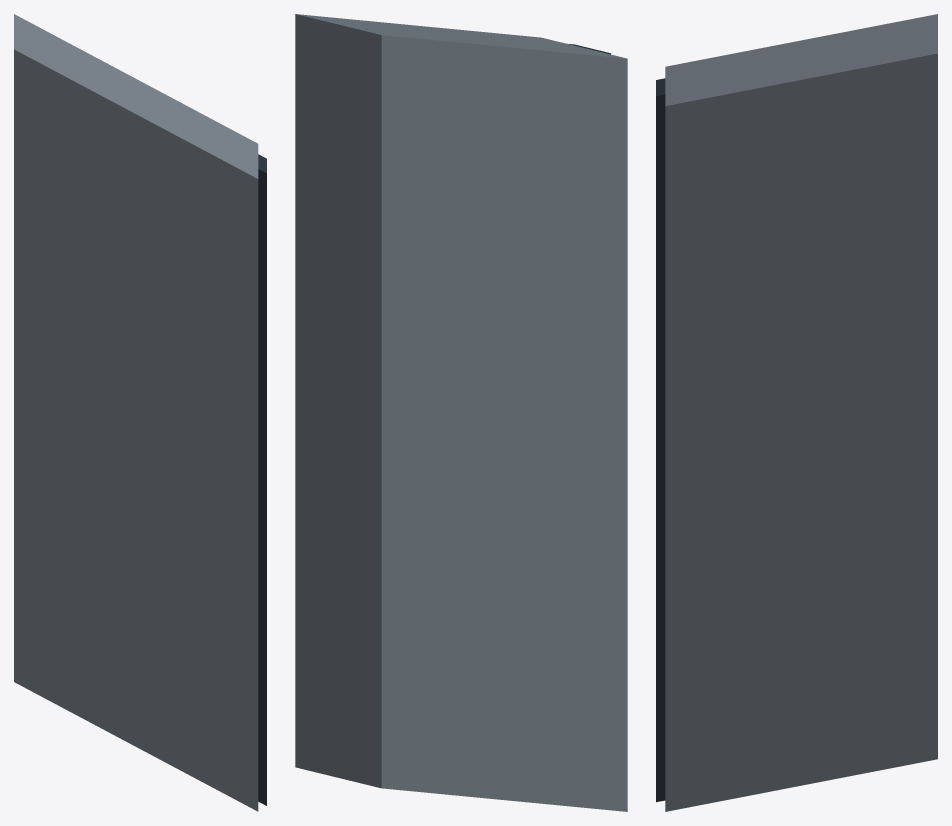
The model's file is Window_FrameV.gltf.
3 renders of one model, left to right at view 1: azimuth 90°, elevation 25°; view 2: azimuth 150°, elevation 25°; view 3: azimuth 270°, elevation 25°, orthographic. The views are drawn at different scales.
Visible parts, largest first — view 1: Window_FrameV_baked; view 2: Window_FrameV_baked; view 3: Window_FrameV_baked.
Boxes of the visible parts, left/top/right/bottom form: Window_FrameV_baked: left=14, top=14, right=266, bottom=811; Window_FrameV_baked: left=295, top=14, right=627, bottom=811; Window_FrameV_baked: left=656, top=14, right=937, bottom=811.
Size of the model in its own units: 0.26 by 1.14 by 0.362.
